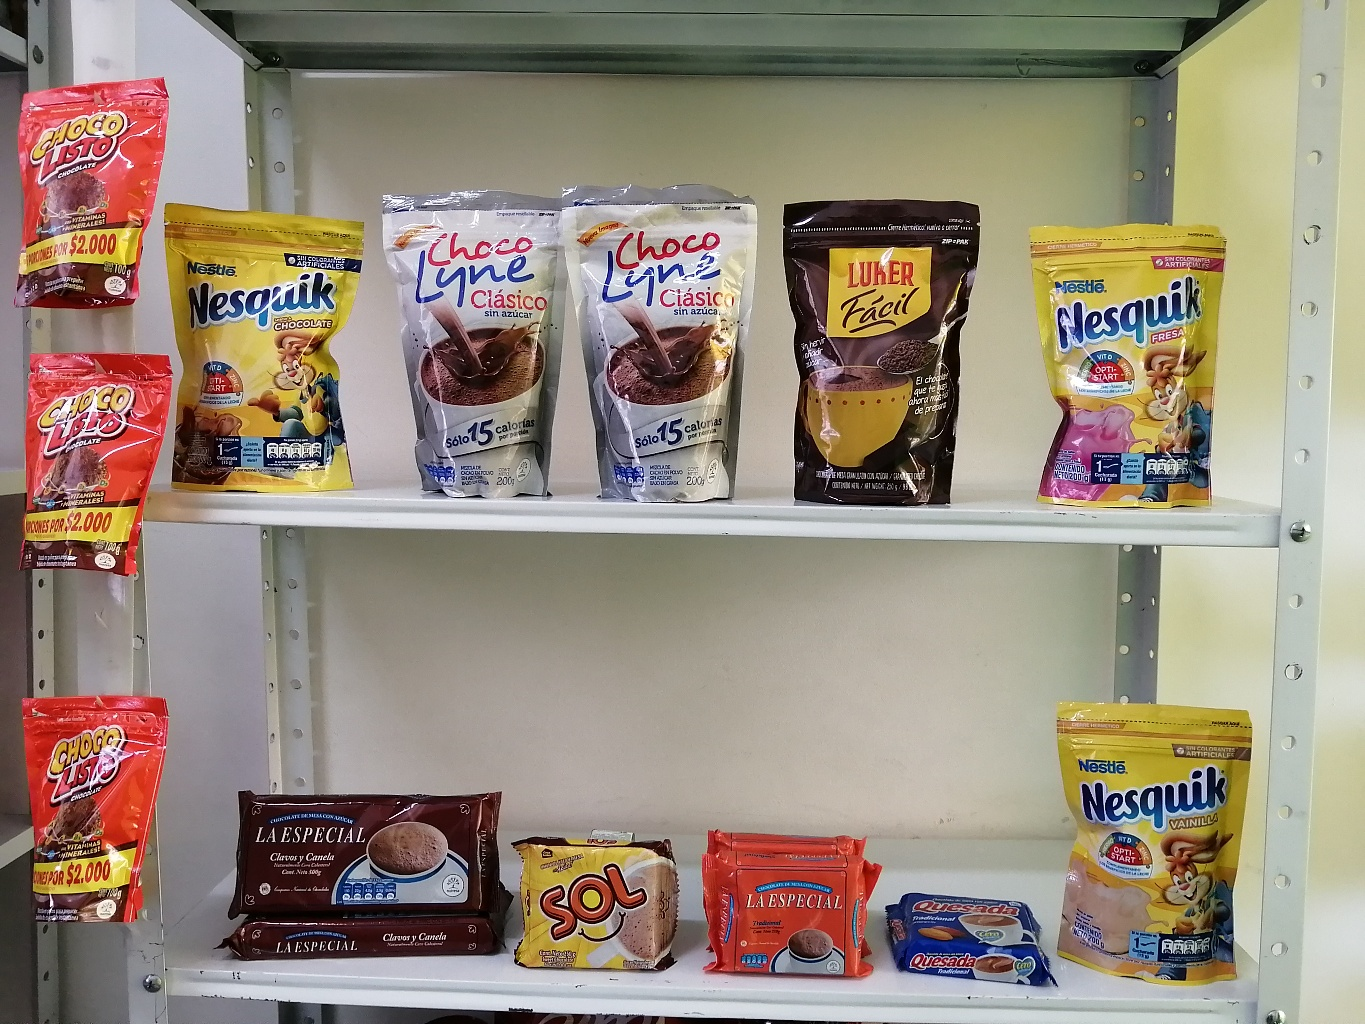COL0170303DYP20000: (163, 207, 366, 490)
COL0170305DYP20000: (1028, 213, 1231, 513)
COL0170306DYP20000: (1062, 699, 1251, 978)
